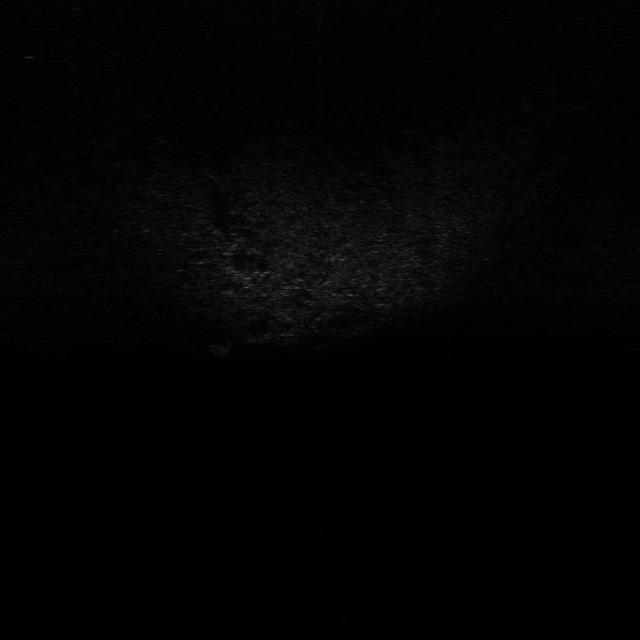cube: (207, 335, 233, 359)
